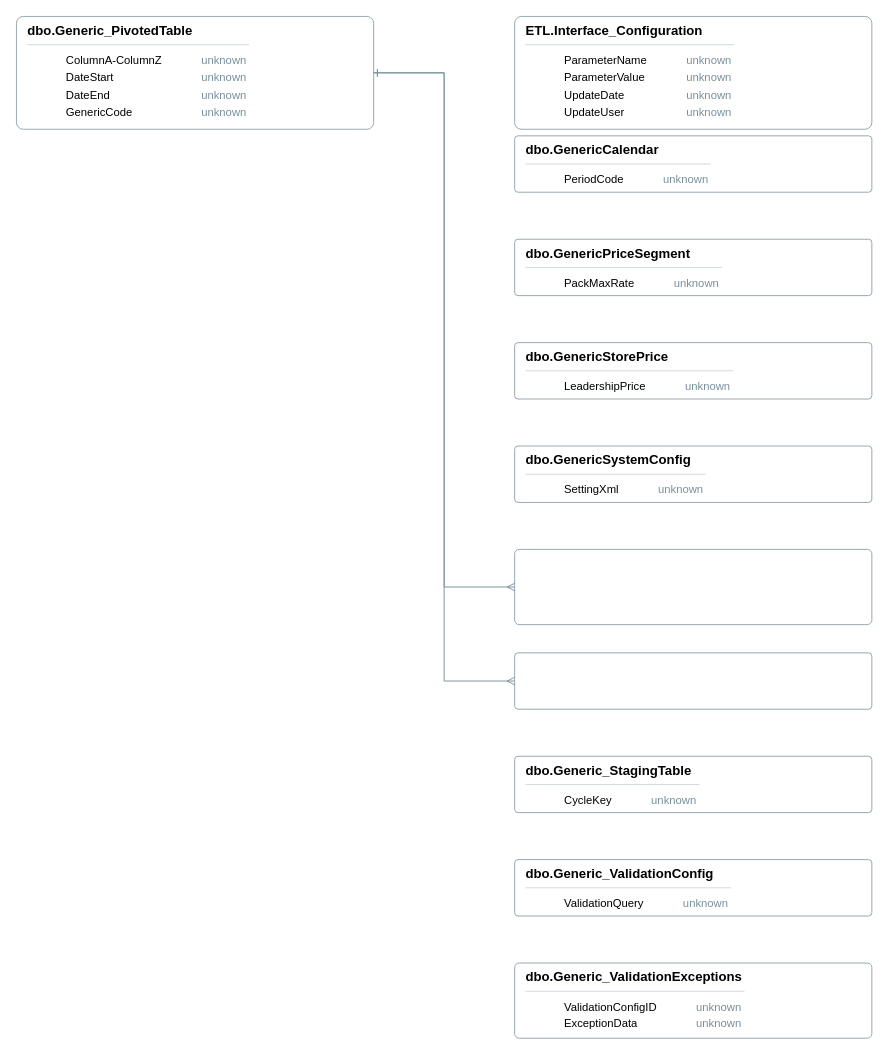
Some shapes in this 888 by 1055 pixel diagram are drawn without their labels. The shapes that lost their labels are listed below. From the top down, each one's centre as x and y in pixels, then its label:
the point at 693,586: dbo.Generic_InitiativeMapping DateStart unknown DateEnd unknown
the point at 693,680: dbo.Generic_Master ShortDescription unknown
